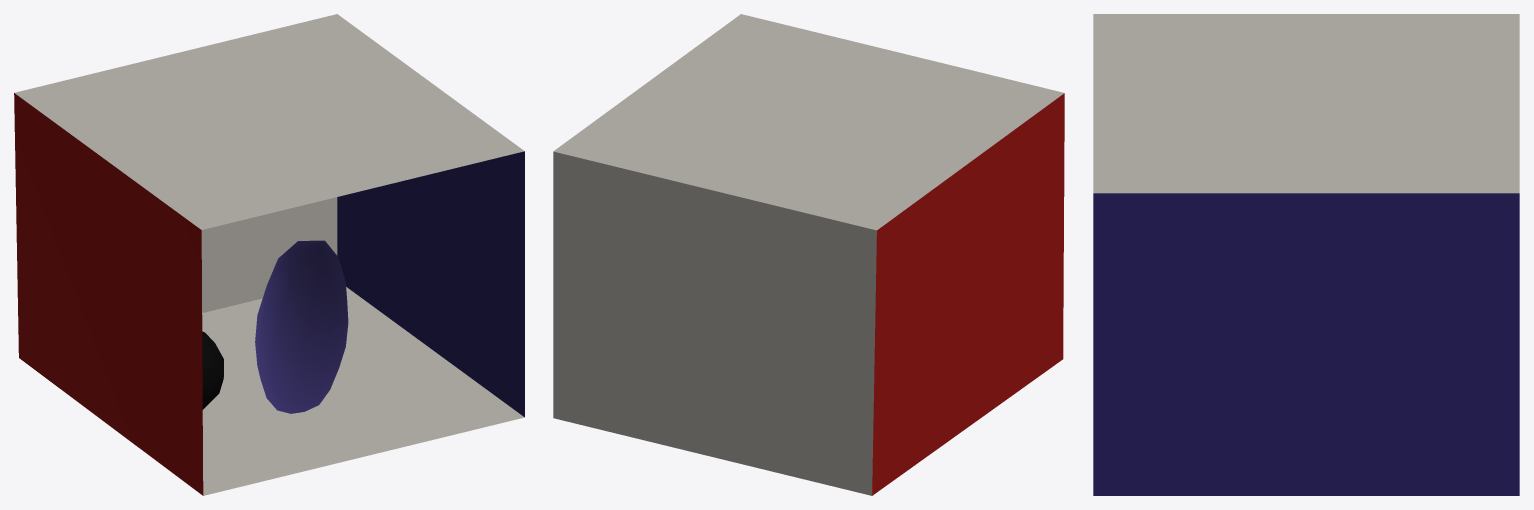
The model's file is CornellBox-Ellipsoid-373.obj.
3 renders of one model, left to right at view 1: azimuth 30°, elevation 25°; view 2: azimuth 150°, elevation 25°; view 3: azimuth 270°, elevation 25°, orthographic. The views are drawn at different scales.
Visible parts, largest first — view 1: ceiling, leftWall, rightWall, floor, leftSphere, backWall, rightSphere; view 2: backWall, ceiling, leftWall; view 3: rightWall, ceiling.
Part boxes in pixels (left/top/right/bottom): ceiling: left=14, top=14, right=524, bottom=229; leftWall: left=14, top=93, right=203, bottom=495; rightWall: left=337, top=151, right=524, bottom=417; floor: left=202, top=287, right=524, bottom=495; leftSphere: left=255, top=240, right=348, bottom=413; backWall: left=201, top=197, right=337, bottom=312; rightSphere: left=202, top=331, right=223, bottom=409; backWall: left=553, top=151, right=876, bottom=495; ceiling: left=553, top=14, right=1064, bottom=230; leftWall: left=872, top=93, right=1064, bottom=495; rightWall: left=1093, top=193, right=1519, bottom=495; ceiling: left=1093, top=14, right=1519, bottom=193.
Bounding box in the file's own units: 2.02 × 1.59 × 2.03.
